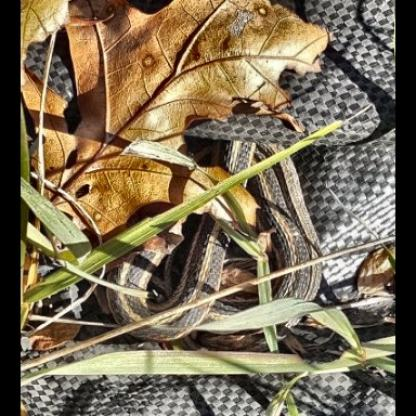Snake: (93, 142, 332, 348)
